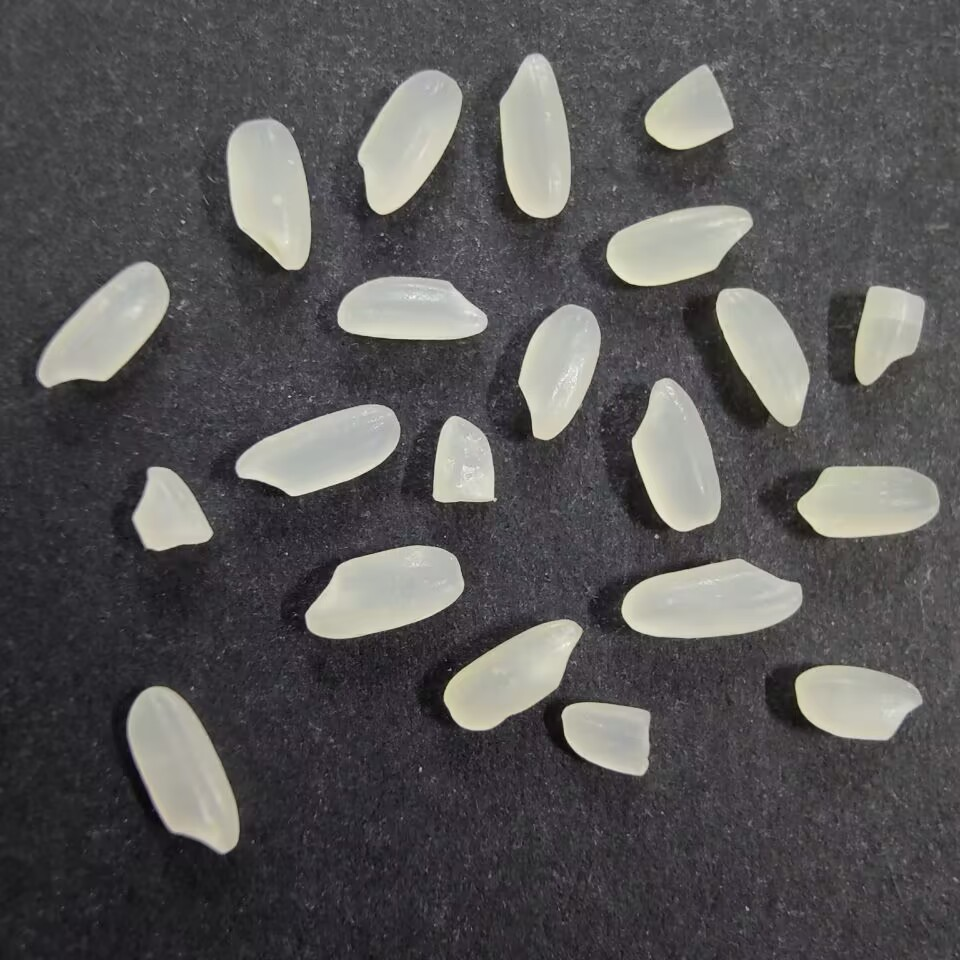broken: (641, 62, 739, 152), (851, 284, 931, 392), (129, 461, 218, 554), (559, 698, 655, 778), (425, 414, 499, 510)
rice: (121, 683, 242, 856), (34, 256, 173, 390), (443, 615, 584, 735), (301, 539, 465, 642), (229, 403, 401, 499), (356, 69, 461, 219), (618, 556, 805, 640), (630, 374, 724, 538), (222, 114, 315, 275), (714, 285, 813, 431), (492, 51, 572, 218), (513, 303, 603, 445), (603, 203, 755, 286), (792, 459, 943, 539), (333, 273, 491, 344), (789, 662, 923, 742)
